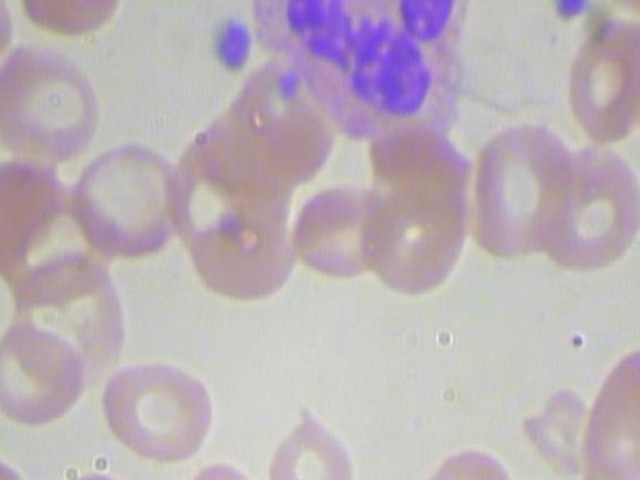Platelets: (209, 15, 255, 70), (548, 0, 598, 32)
RBC: (60, 133, 198, 268), (449, 124, 587, 259), (525, 140, 640, 275), (0, 35, 114, 170), (95, 359, 221, 465), (288, 180, 398, 284), (561, 9, 640, 142), (567, 343, 640, 480), (0, 325, 94, 431), (263, 400, 354, 480), (2, 0, 141, 44), (401, 439, 515, 480)
WBC: (247, 0, 481, 144)
